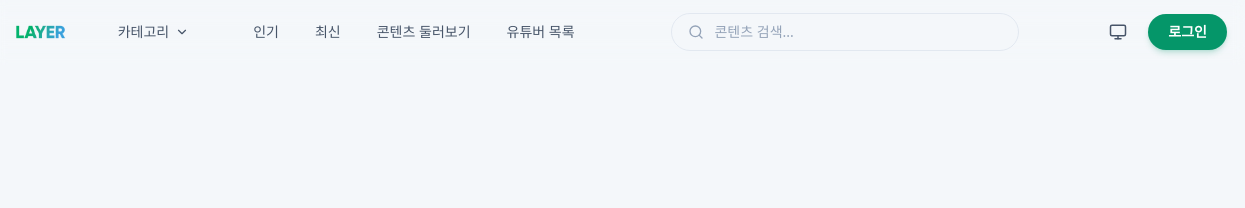
Test case: Header › search behavior › closes dropdown when search input is cleared
Type "react" into the search field with placeholder "콘텐츠 검색..." at (858, 32), box [714,22,1002,42]
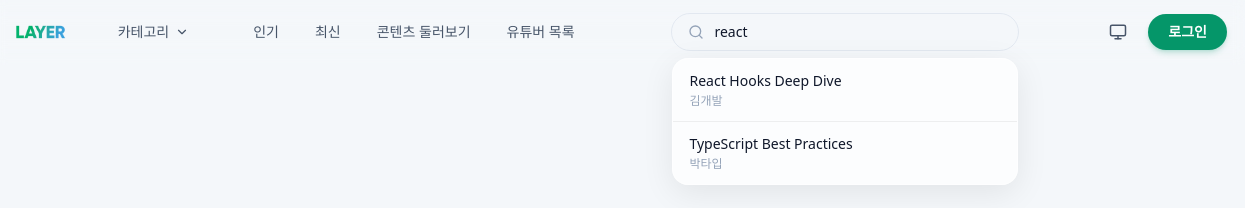
Expected: the text "React Hooks Deep Dive" is shown, [690,71,842,90]
Clear the search field with placeholder "콘텐츠 검색..." at (858, 32), box [714,22,1002,42]
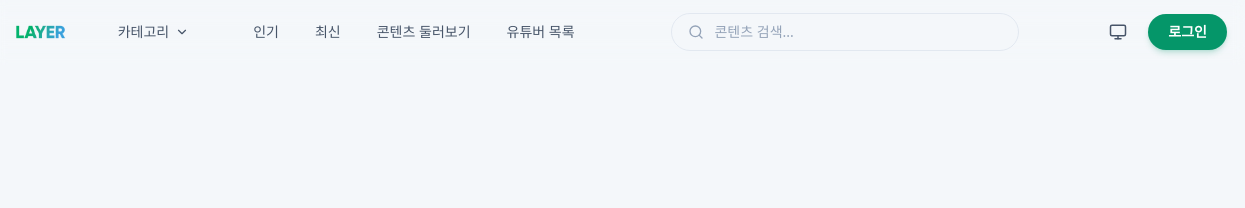
Expected: the button "React Hooks Deep Dive" is gone
